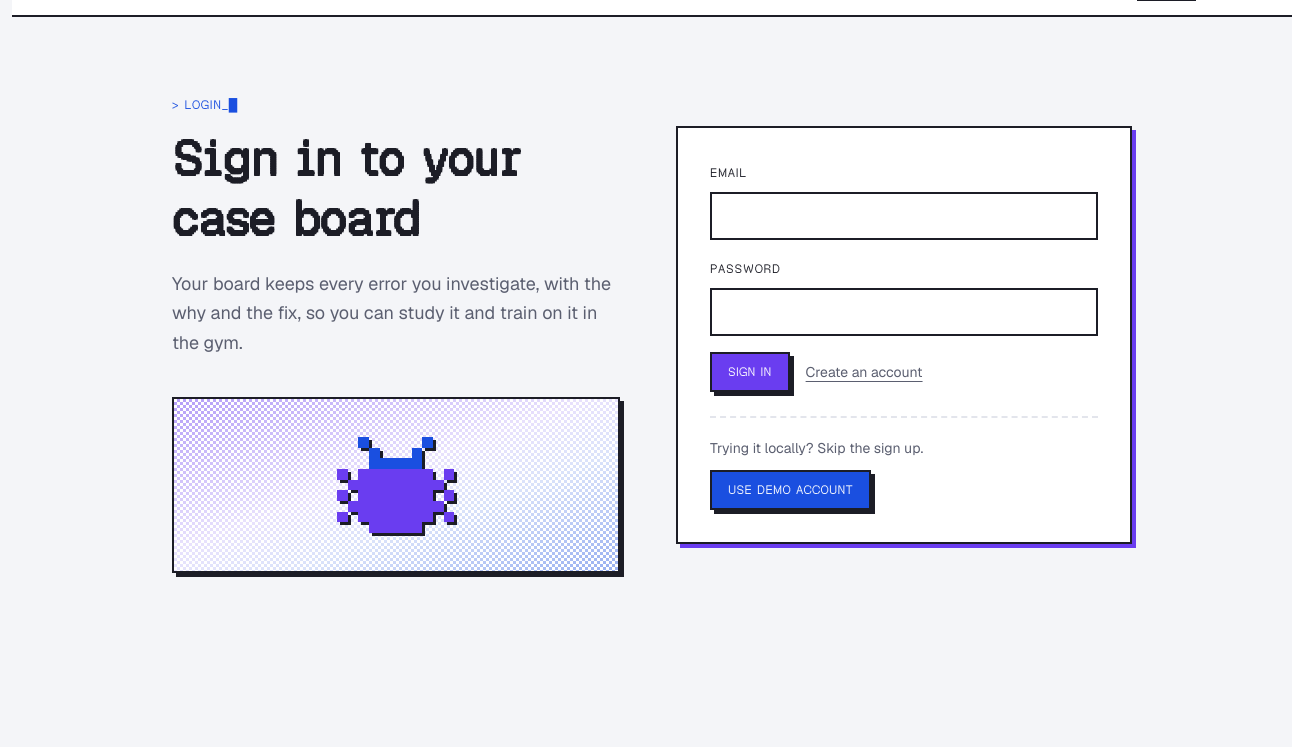
keeps me signed in after a reload
Type "ada@example.com" into the field labelled "Email".
click(904, 216); type("ada@example.com")  # box [710,192,1098,240]
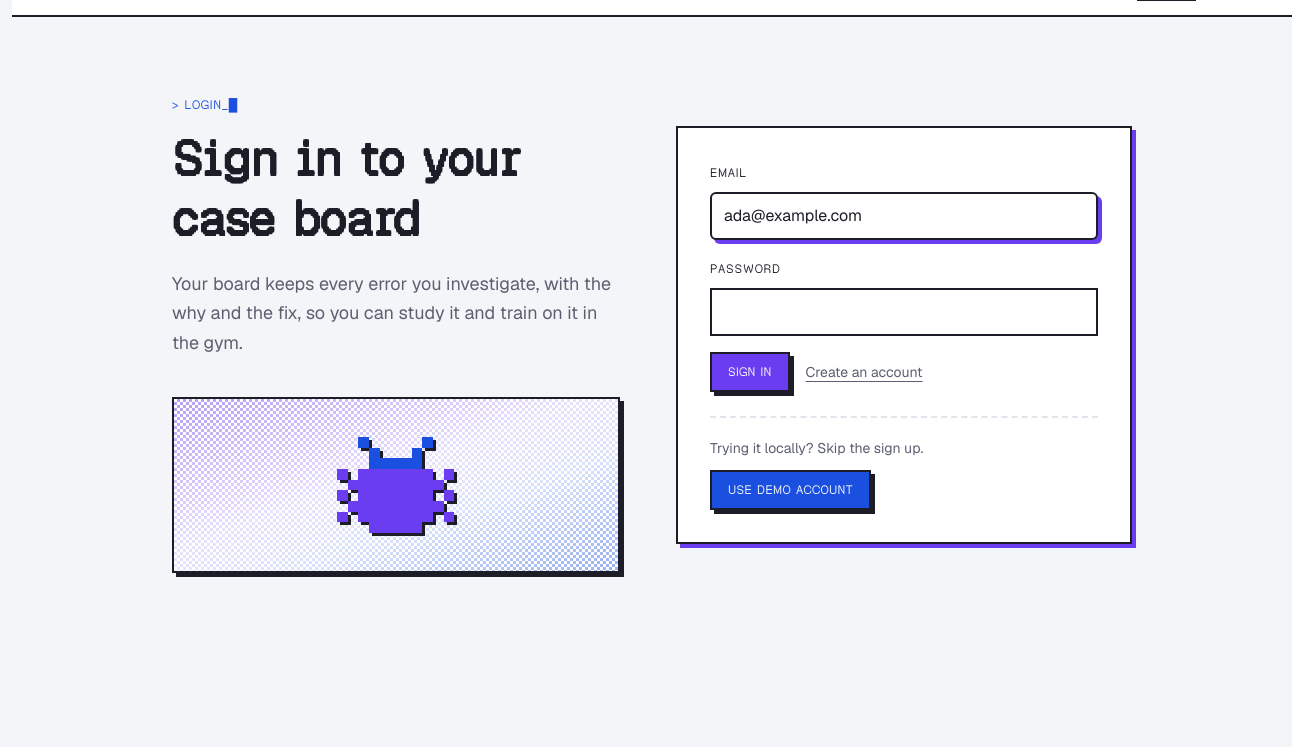
Type "correct horse" into the password field labelled "Password".
click(904, 312); type("correct horse")  # box [710,288,1098,336]
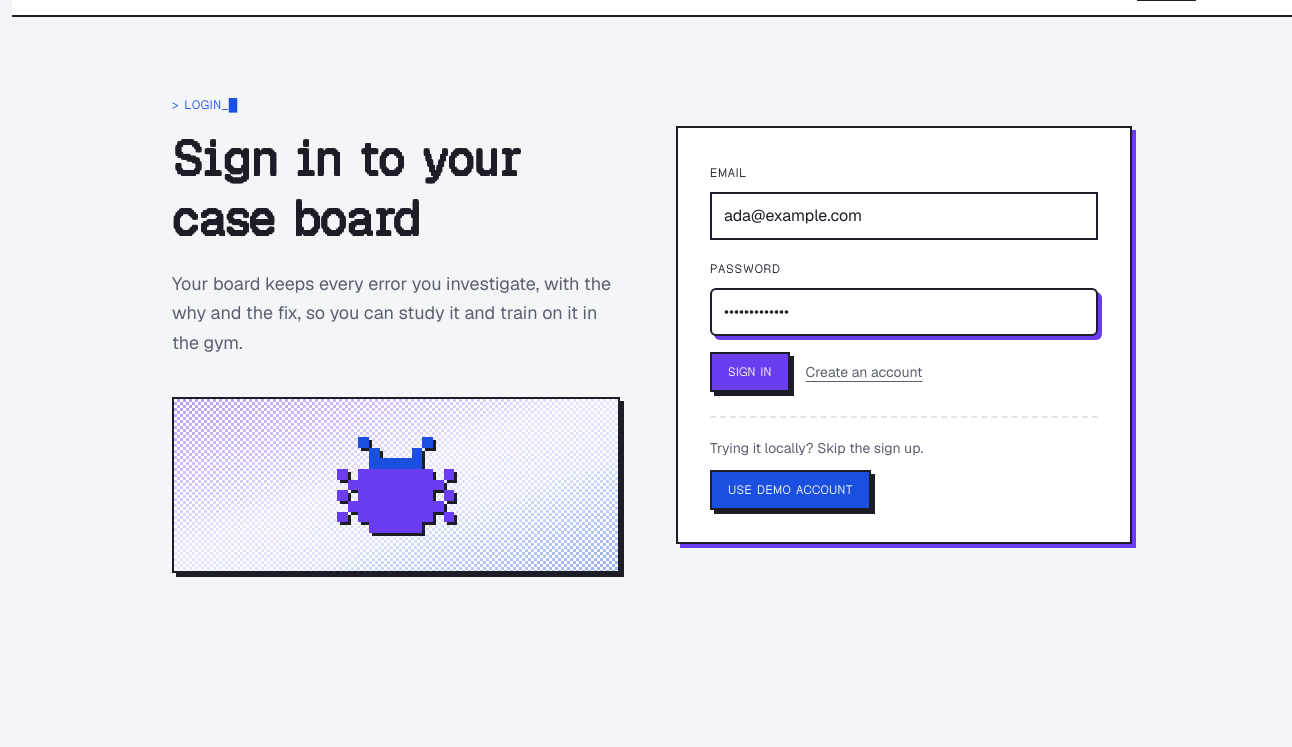
Click the button "Sign in".
click(750, 372)  # box [710,352,790,392]
(page scrolled)
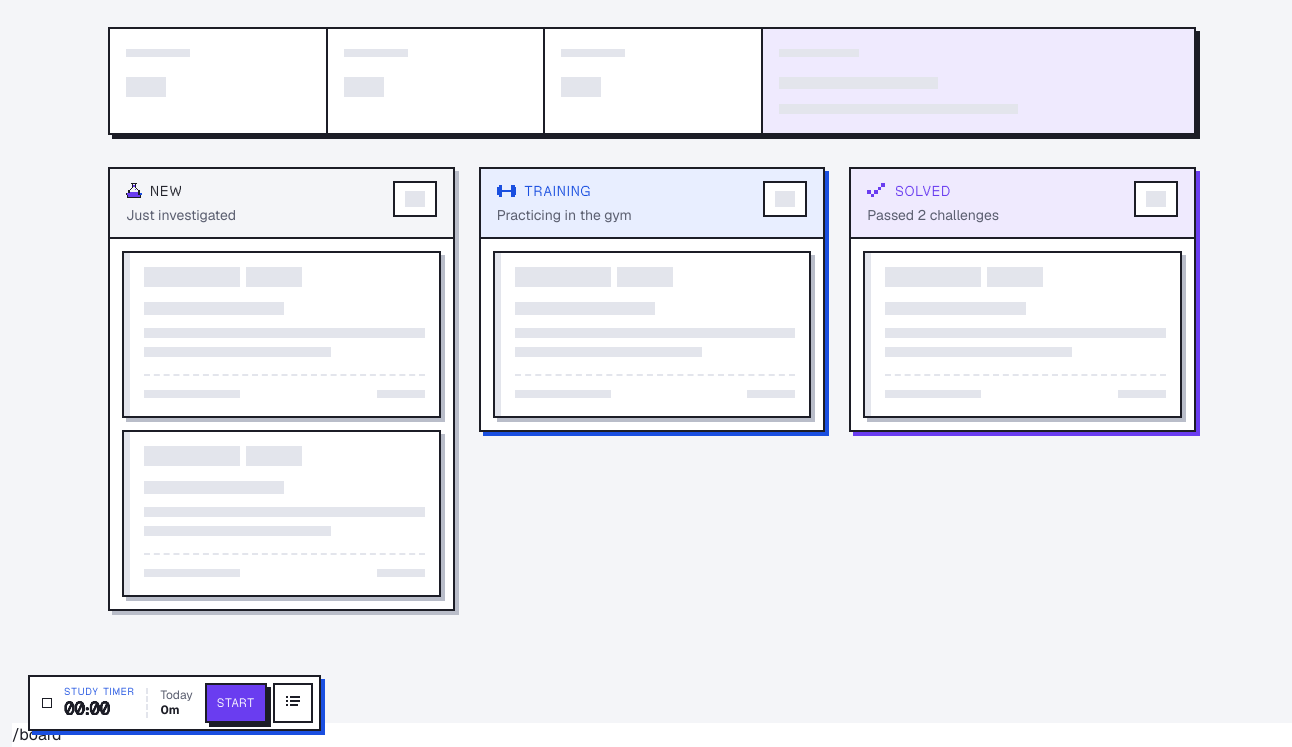
Result: the text with test id "location" reads "/board" at [12,724,62,745]
